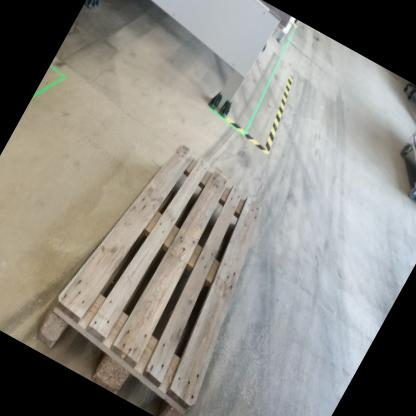BoxFace: (30, 136, 270, 416)
